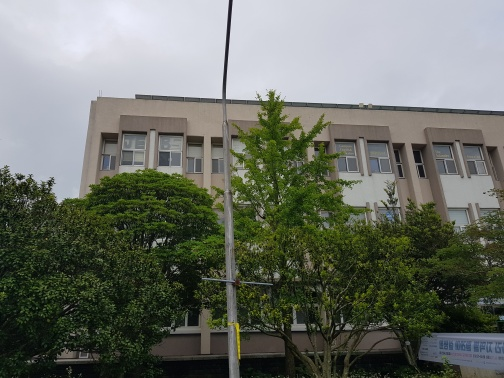Main Building of University: (90, 72, 497, 350)
